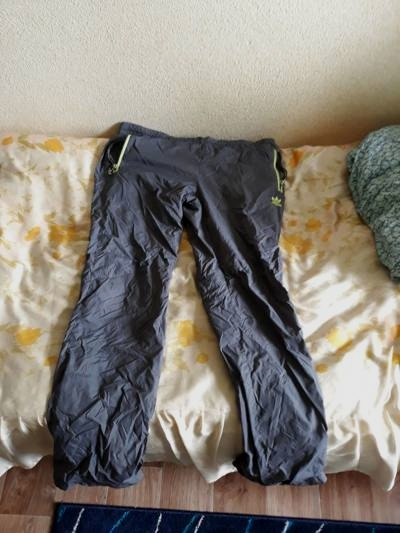Pants: (66, 98, 340, 496)
